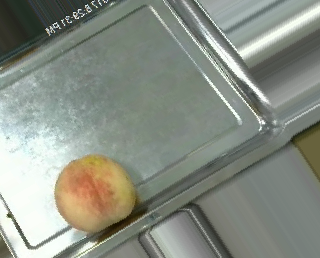Peach: (54, 153, 136, 232)
